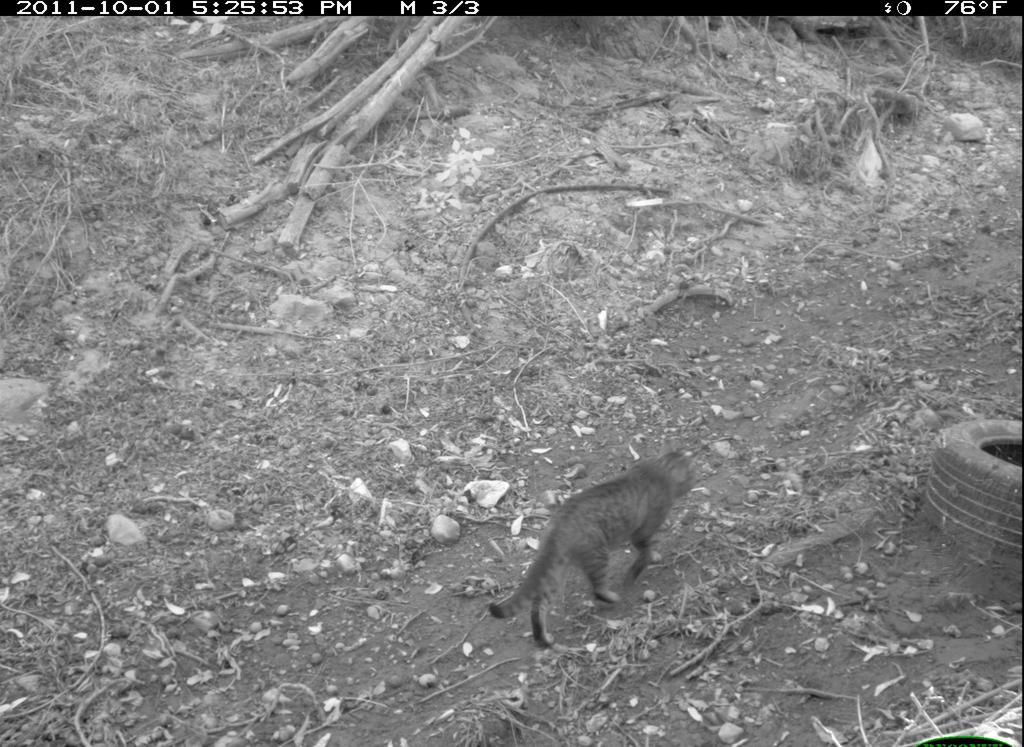cat: (515, 436, 705, 655)
